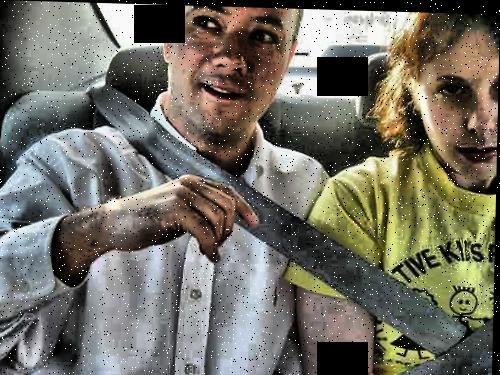seatbelt: (77, 70, 463, 340)
